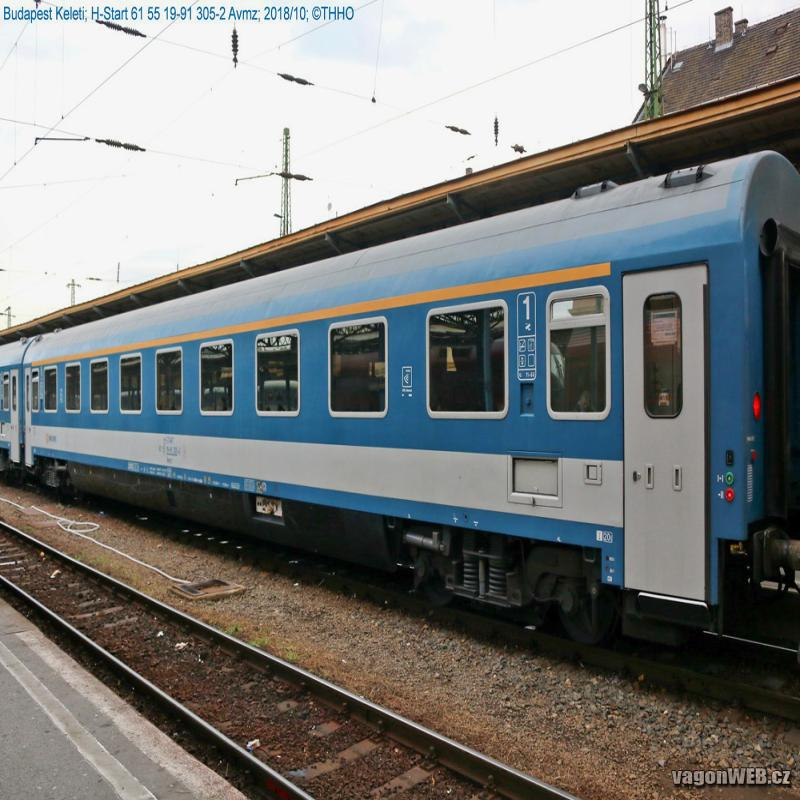train: (25, 151, 800, 697)
